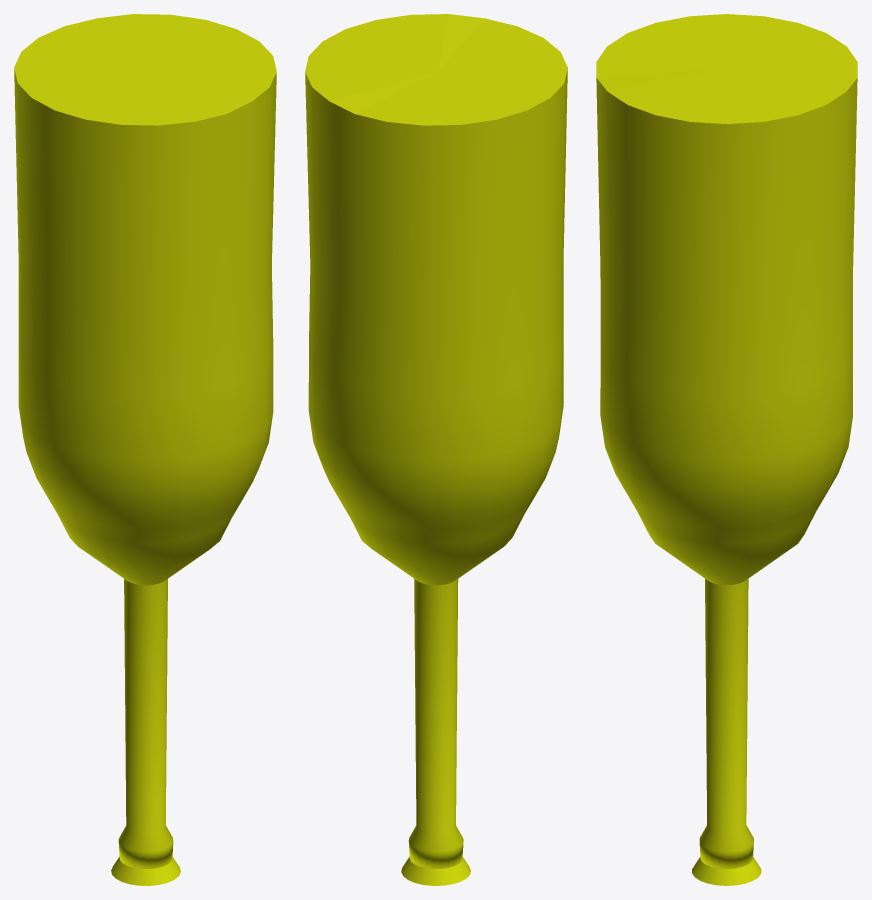
Rendered from stage3 nutrients full.fbx.
The picture shows the model from 3 angles, left to right: view 1: azimuth 30°, elevation 25°; view 2: azimuth 150°, elevation 25°; view 3: azimuth 270°, elevation 25°; orthographic projection.
Parts seen in each view (by area): view 1: Cylinder002; view 2: Cylinder002; view 3: Cylinder002.
Boxes of the visible parts, x1,y1,x2,y2 form: Cylinder002: (14,14,276,885); Cylinder002: (305,14,567,885); Cylinder002: (596,14,857,885).
Size of the model in its own units: 8.37 by 8.31 by 28.17.
